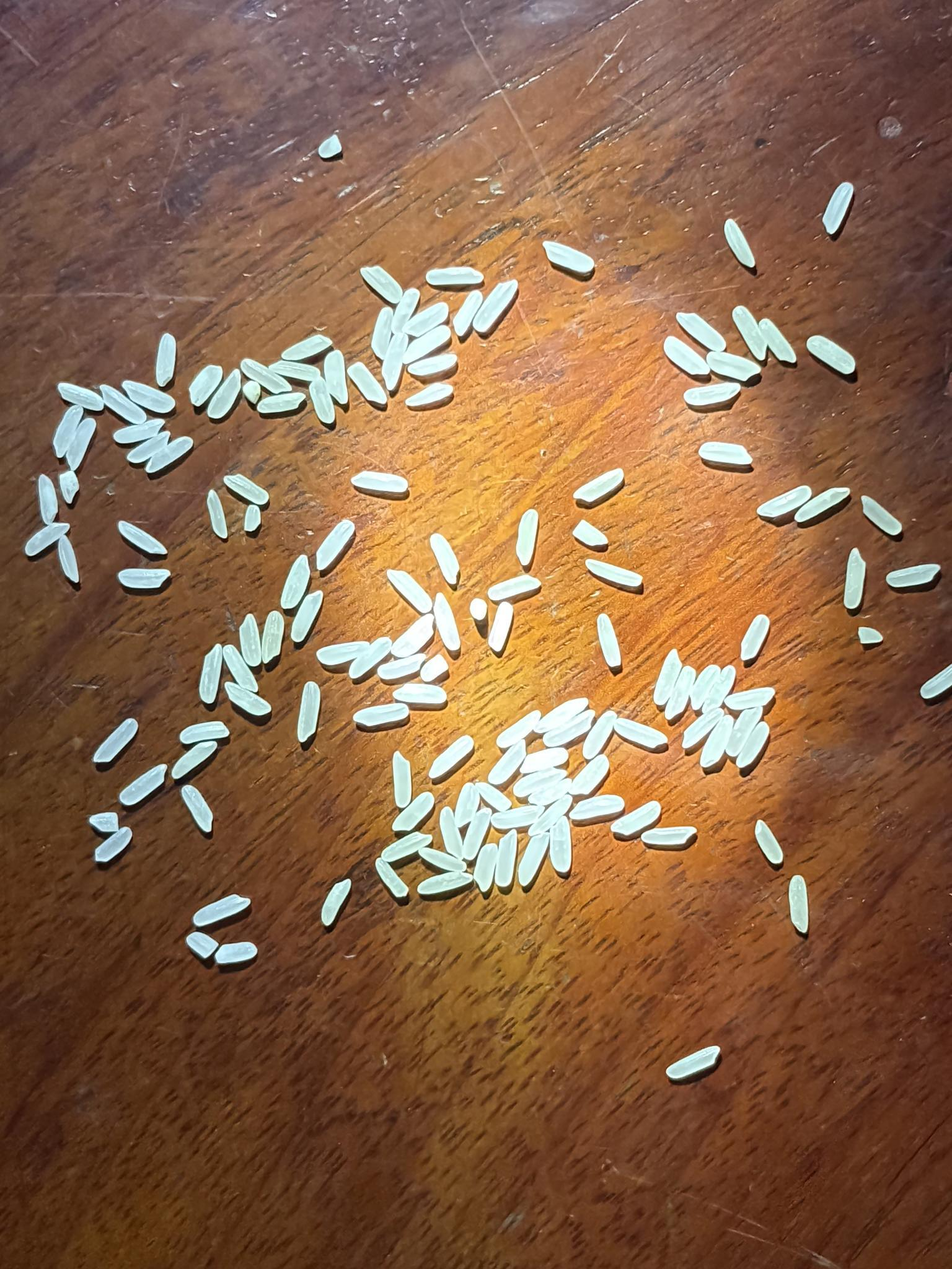Rice-th-y-nh: (471, 276, 520, 335), (311, 516, 357, 572), (705, 345, 762, 387), (385, 567, 434, 615), (91, 717, 140, 764), (117, 763, 169, 807), (794, 485, 852, 524), (723, 704, 764, 759), (350, 463, 409, 501), (675, 310, 727, 353), (648, 648, 687, 705), (427, 734, 476, 779), (542, 708, 597, 748), (276, 554, 315, 610), (837, 547, 872, 609), (730, 305, 769, 360), (698, 434, 753, 473), (806, 333, 857, 375), (317, 349, 355, 404), (98, 384, 147, 426), (536, 696, 590, 734), (391, 613, 436, 658), (206, 368, 244, 421), (401, 326, 452, 365), (121, 379, 176, 415), (347, 636, 393, 679), (240, 358, 293, 395), (145, 435, 194, 475), (758, 316, 798, 365), (612, 715, 668, 750), (662, 336, 711, 376), (699, 714, 734, 770), (346, 361, 389, 406), (591, 613, 626, 668), (542, 239, 595, 275), (756, 485, 812, 519), (581, 709, 619, 759), (487, 740, 528, 786), (681, 708, 727, 749), (496, 708, 542, 749), (192, 894, 249, 927), (170, 740, 218, 779), (365, 305, 399, 360), (431, 592, 462, 652), (289, 589, 324, 642), (586, 556, 642, 589), (359, 263, 404, 304), (611, 801, 663, 836), (700, 666, 737, 715), (860, 494, 903, 536), (569, 753, 610, 797), (821, 181, 855, 234), (222, 643, 258, 693), (681, 379, 740, 409), (573, 469, 625, 503), (735, 720, 771, 769), (391, 792, 435, 832), (666, 1047, 721, 1079), (117, 520, 167, 555), (403, 301, 450, 338), (200, 489, 234, 540), (23, 520, 71, 556), (518, 833, 550, 887), (529, 796, 572, 836), (722, 219, 757, 268), (65, 418, 97, 471), (179, 784, 214, 832), (664, 666, 695, 720), (51, 404, 83, 456), (570, 792, 625, 822), (885, 560, 940, 590), (222, 472, 270, 506), (429, 533, 461, 584), (487, 573, 541, 603), (224, 683, 271, 717), (738, 614, 772, 661), (380, 334, 408, 391), (513, 768, 566, 798), (280, 332, 333, 362), (187, 363, 223, 407), (126, 429, 171, 464), (389, 287, 421, 336), (452, 288, 484, 337), (315, 638, 369, 667), (198, 644, 224, 704), (752, 818, 785, 865), (689, 663, 722, 710), (112, 417, 165, 446), (381, 832, 432, 862), (461, 809, 491, 860), (320, 878, 352, 925), (236, 613, 264, 666), (514, 508, 540, 565), (93, 826, 133, 863), (296, 682, 321, 741), (520, 744, 569, 774), (487, 600, 515, 652), (726, 684, 776, 713), (549, 816, 574, 874), (373, 858, 409, 898), (306, 376, 336, 424), (437, 806, 464, 859), (405, 380, 454, 409), (787, 874, 811, 933), (426, 264, 485, 288), (641, 823, 696, 848), (57, 381, 104, 410), (379, 652, 426, 681), (270, 358, 321, 384), (408, 351, 457, 378), (354, 703, 409, 727), (179, 720, 229, 746), (260, 611, 285, 662), (491, 804, 540, 830), (417, 871, 470, 895), (496, 830, 518, 887), (256, 390, 306, 415), (393, 682, 447, 705), (391, 752, 413, 808), (919, 663, 952, 700), (531, 778, 573, 807), (419, 847, 465, 873), (154, 333, 177, 385), (475, 779, 511, 812), (453, 782, 479, 827), (56, 535, 80, 583), (36, 475, 60, 523), (474, 843, 498, 890), (572, 519, 609, 547), (214, 942, 257, 964), (419, 654, 450, 683), (186, 931, 219, 955), (240, 503, 265, 533), (89, 811, 120, 834), (59, 471, 79, 503), (318, 134, 342, 159), (240, 379, 263, 405), (468, 596, 489, 621), (857, 625, 884, 644)
